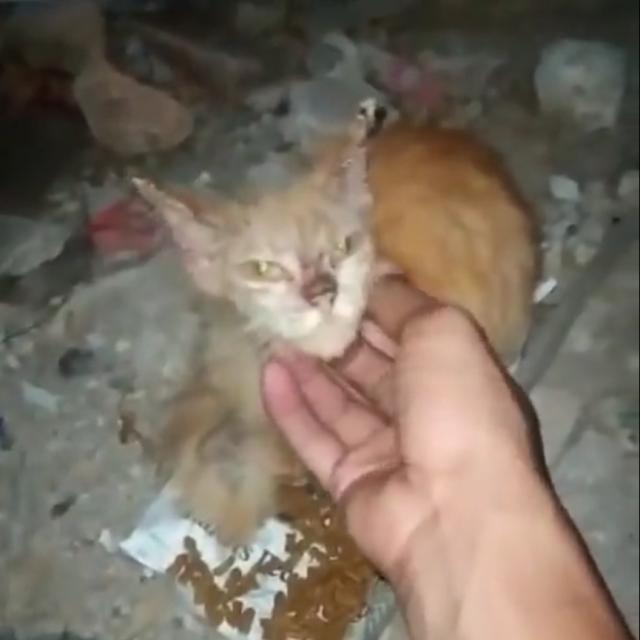cat-scabies: (133, 173, 234, 267), (330, 96, 390, 214)
